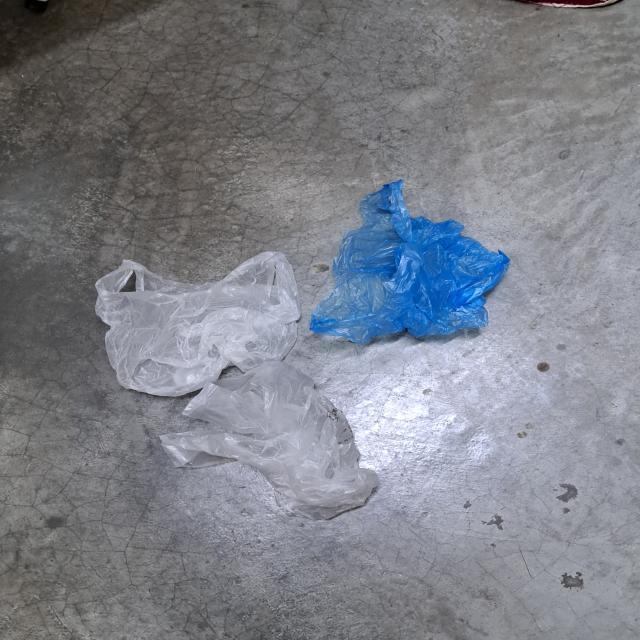plastic bag: (160, 366, 380, 522), (312, 176, 500, 343), (87, 257, 305, 392)
